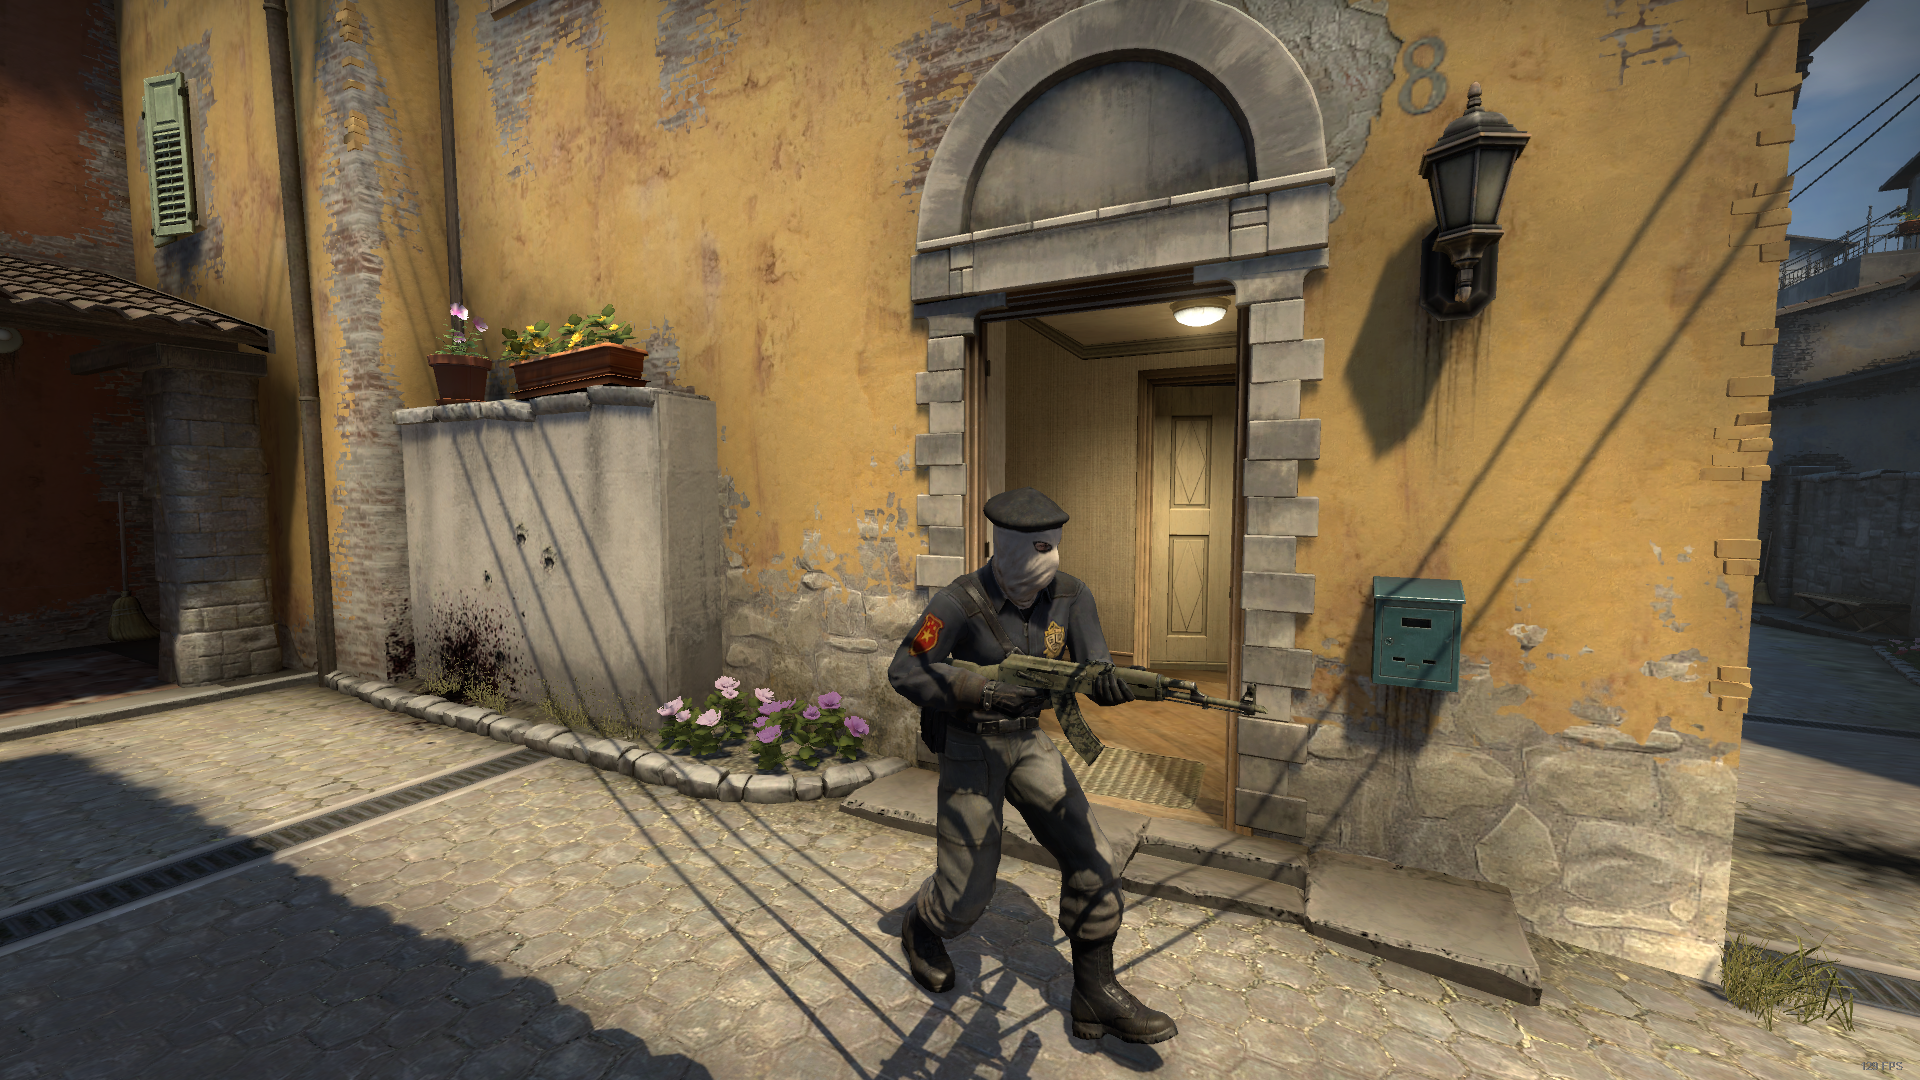t: (877, 488, 1208, 1055)
